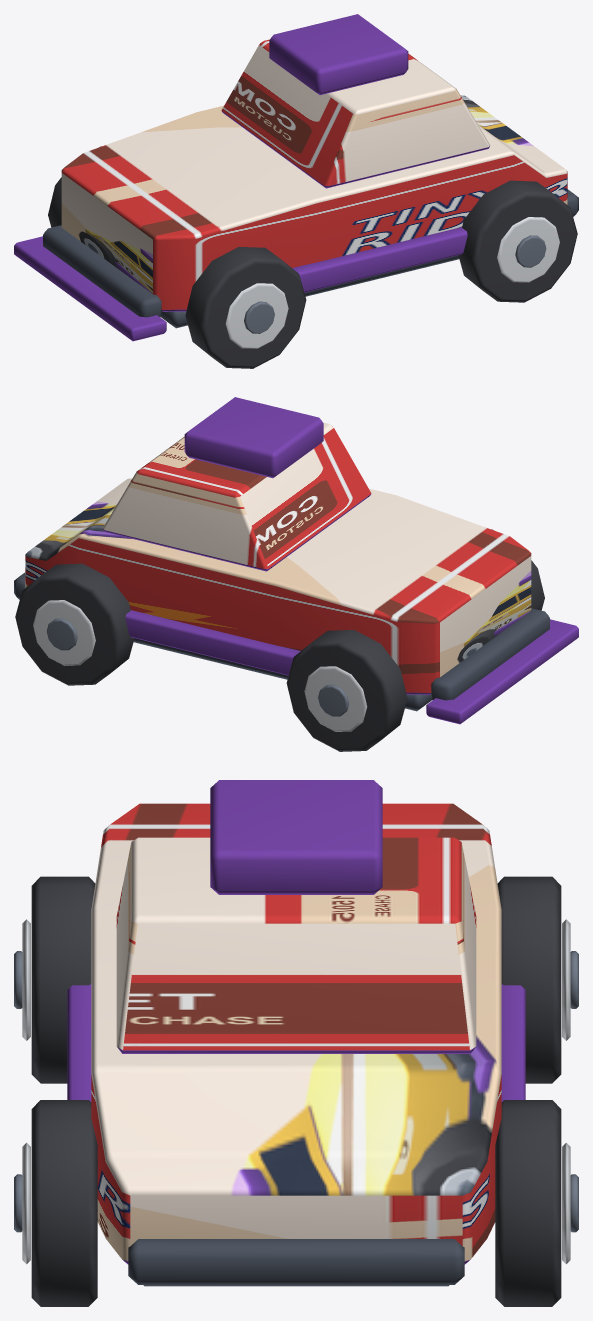
3 renders of one model, top to bottom at view 1: azimuth 30°, elevation 25°; view 2: azimuth 150°, elevation 25°; view 3: azimuth 270°, elevation 25°, orthographic. The views are drawn at different scales.
Visible parts, largest first — view 1: RR-05_connected_shell, RR-05_cabin, Tire, Tire.002, custom equipment, custom side guard, custom chin, front bumper, Rim.002, Rim, underbody, Hub.002 (+2 smaller); view 2: RR-05_connected_shell, RR-05_cabin, Tire.001, Tire.003, custom equipment, custom side guard.001, custom chin, front bumper, Rim.003, Rim.001, underbody, Hub.003 (+2 smaller); view 3: RR-05_connected_shell, RR-05_cabin, custom equipment, rear bumper, Tire.002, Tire.003, Tire, Tire.001, custom side guard, custom side guard.001, Rim.002, Rim.003 (+2 smaller).
Part boxes in pixels (left/top/right/bottom): RR-05_connected_shell: left=61, top=95, right=567, bottom=311; RR-05_cabin: left=221, top=39, right=490, bottom=188; Tire: left=185, top=247, right=306, bottom=368; Tire.002: left=458, top=180, right=577, bottom=302; custom equipment: left=269, top=14, right=408, bottom=95; custom side guard: left=292, top=227, right=467, bottom=292; custom chin: left=14, top=236, right=166, bottom=341; front bumper: left=43, top=225, right=162, bottom=317; Rim.002: left=497, top=217, right=559, bottom=282; Rim: left=225, top=283, right=288, bottom=348; underbody: left=160, top=255, right=459, bottom=328; Hub.002: left=515, top=235, right=546, bottom=267; RR-05_connected_shell: left=25, top=478, right=531, bottom=694; RR-05_cabin: left=102, top=422, right=371, bottom=571; Tire.001: left=286, top=630, right=407, bottom=751; Tire.003: left=15, top=563, right=134, bottom=685; custom equipment: left=184, top=397, right=323, bottom=478; custom side guard.001: left=125, top=610, right=300, bottom=675; custom chin: left=426, top=619, right=578, bottom=724; front bumper: left=430, top=608, right=549, bottom=700; Rim.003: left=33, top=600, right=95, bottom=665; Rim.001: left=304, top=666, right=367, bottom=731; underbody: left=133, top=638, right=432, bottom=711; Hub.003: left=46, top=618, right=77, bottom=650; RR-05_connected_shell: left=91, top=803, right=501, bottom=1264; RR-05_cabin: left=116, top=837, right=476, bottom=1053; custom equipment: left=210, top=780, right=382, bottom=894; rear bumper: left=128, top=1239, right=464, bottom=1284; Tire.002: left=31, top=1100, right=97, bottom=1306; Tire.003: left=495, top=1100, right=561, bottom=1306; Tire: left=31, top=876, right=95, bottom=1083; Tire.001: left=497, top=876, right=561, bottom=1083; custom side guard: left=67, top=984, right=91, bottom=1101; custom side guard.001: left=501, top=984, right=525, bottom=1101; Rim.002: left=22, top=1142, right=30, bottom=1264; Rim.003: left=562, top=1142, right=570, bottom=1264.
Size of the model in its own units: 353 by 171 by 223.
